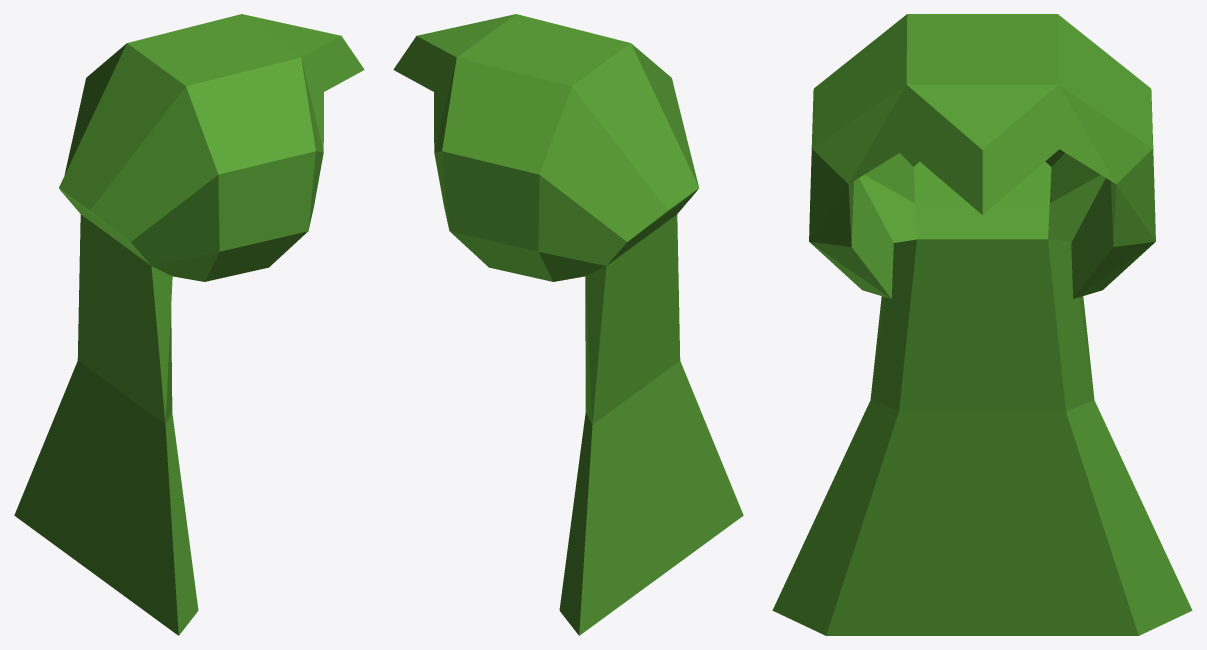
Rendered from ScoutHead.fbx.
The picture shows the model from 3 angles, left to right: view 1: azimuth 30°, elevation 25°; view 2: azimuth 150°, elevation 25°; view 3: azimuth 270°, elevation 25°; orthographic projection. The views are drawn at different scales.
Visible parts, largest first — view 1: Scout Cloak; view 2: Scout Cloak; view 3: Scout Cloak.
Part boxes in pixels (x1=…): Scout Cloak: x1=14, y1=14, x2=364, y2=635; Scout Cloak: x1=393, y1=14, x2=743, y2=635; Scout Cloak: x1=772, y1=14, x2=1192, y2=635.
Bounding box in the file's own units: 413 × 675 × 405.
